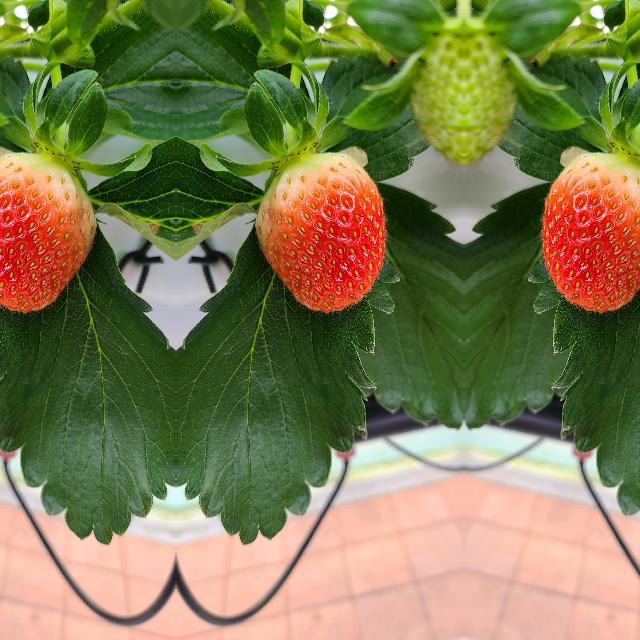Health_100: (254, 152, 384, 312), (542, 152, 640, 311), (0, 152, 96, 311)
